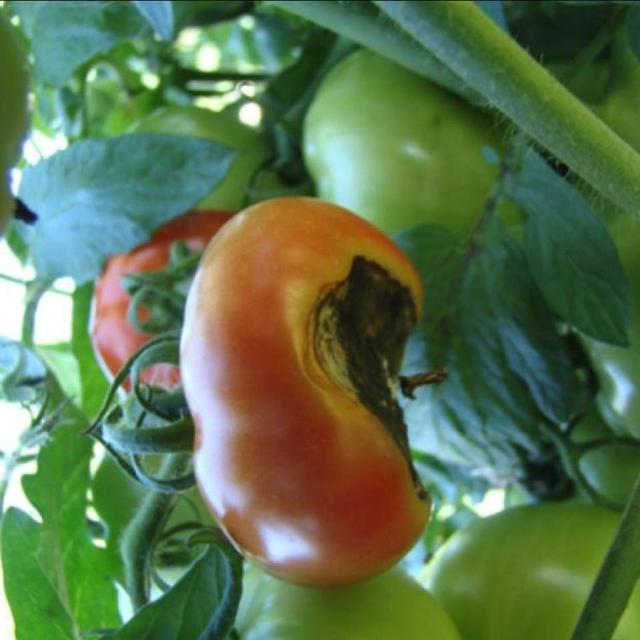Blossom End Rot Fruit: (204, 163, 290, 352)
